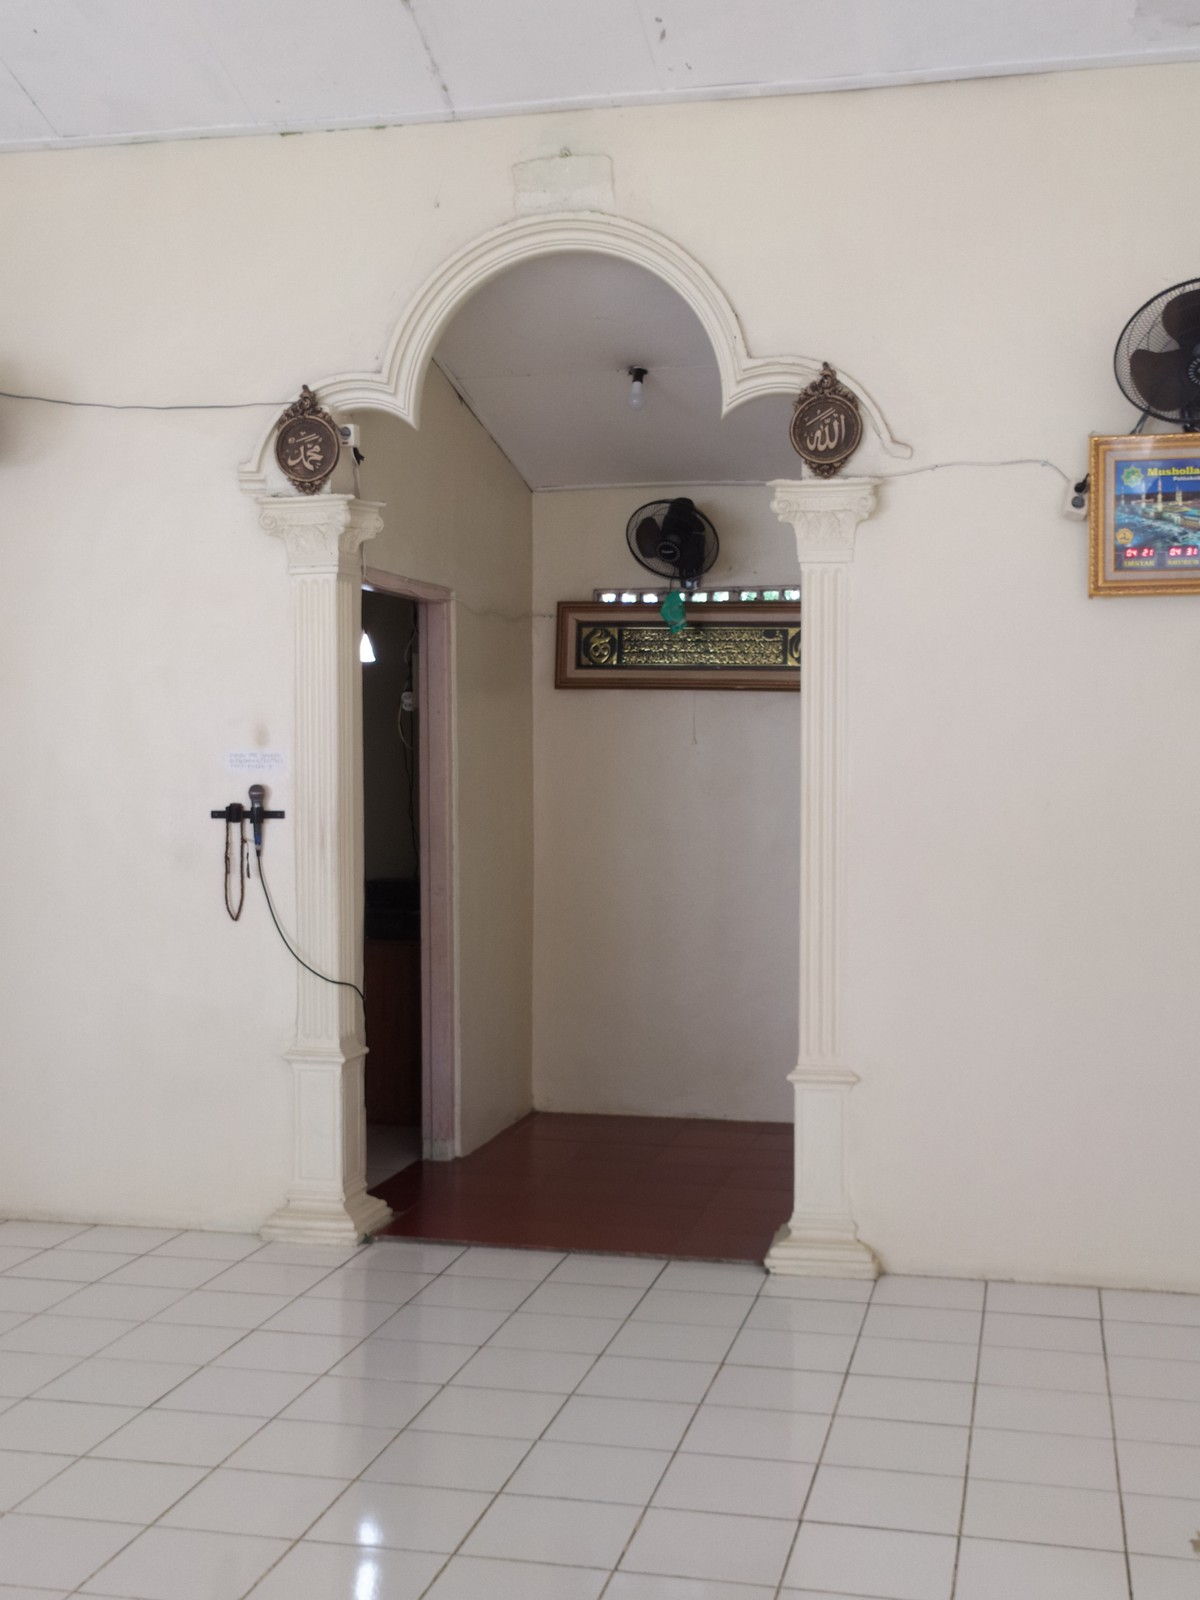concrete column: (272, 548, 377, 1225), (780, 524, 870, 1238)
